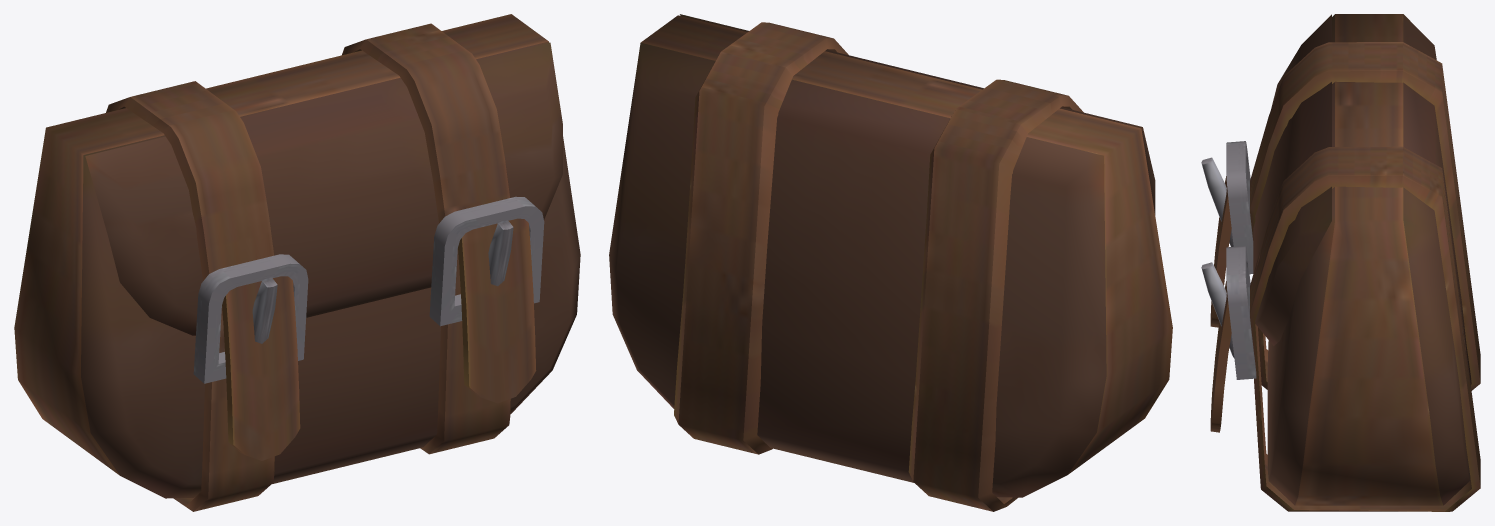
The model's file is pouch-DT3ZGs1K.glb.
3 renders of one model, left to right at view 1: azimuth 30°, elevation 25°; view 2: azimuth 150°, elevation 25°; view 3: azimuth 270°, elevation 25°, orthographic. The views are drawn at different scales.
Parts seen in each view (by area): view 1: Pouch_Large; view 2: Pouch_Large; view 3: Pouch_Large.
Boxes of the visible parts, bbox=[...] form: Pouch_Large: bbox=[14, 14, 580, 511]; Pouch_Large: bbox=[609, 14, 1172, 511]; Pouch_Large: bbox=[1201, 14, 1480, 511].
Bounding box in the file's own units: 0.902 × 0.6364 × 0.4793.
Materials: 2 (2 with a texture image).
